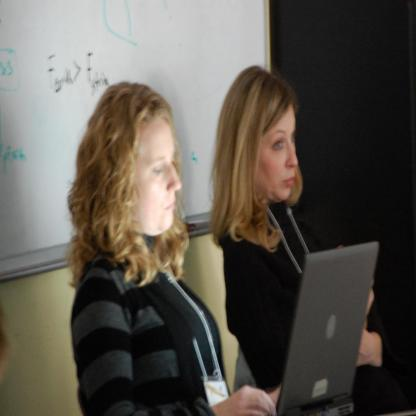board: (272, 236, 384, 416)
